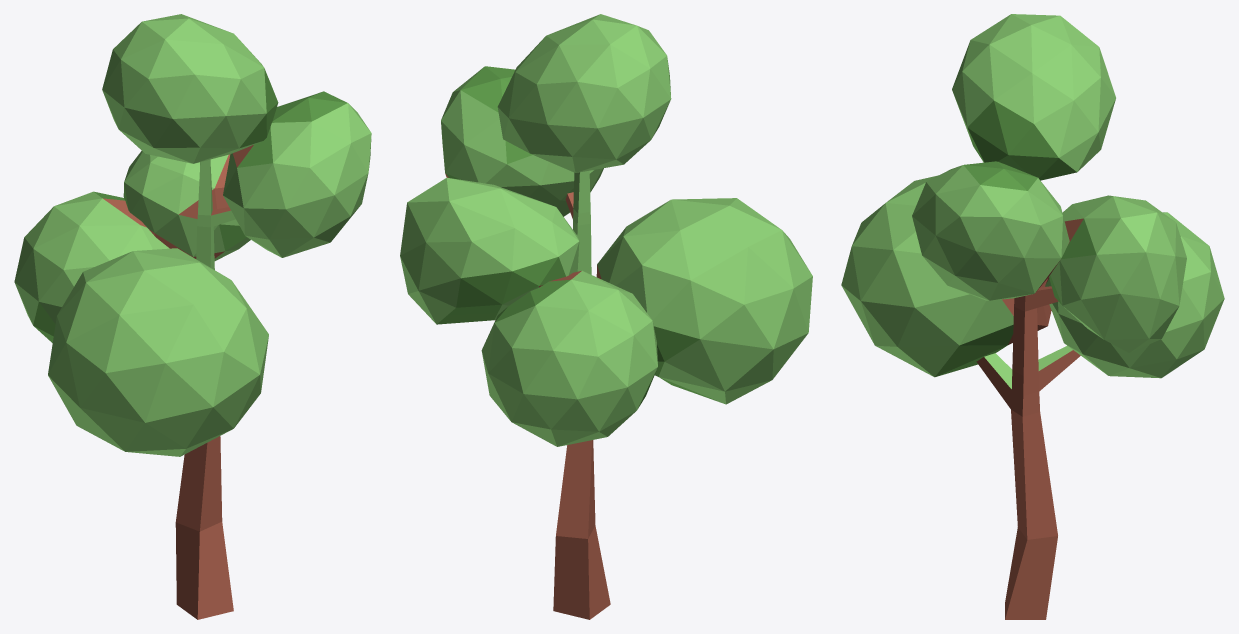
File: arbol 3.fbx
The picture shows the model from 3 angles, left to right: view 1: azimuth 30°, elevation 25°; view 2: azimuth 150°, elevation 25°; view 3: azimuth 270°, elevation 25°; orthographic projection. The views are drawn at different scales.
Parts seen in each view (by area): view 1: OakTree2; view 2: OakTree2; view 3: OakTree2.
Part boxes in pixels (bbox=[...]): OakTree2: bbox=[14, 14, 371, 619]; OakTree2: bbox=[400, 14, 812, 619]; OakTree2: bbox=[841, 14, 1224, 619].
Bounding box in the file's own units: 15955 × 28512 × 17090.
